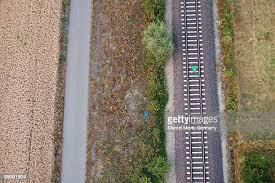Dust_screen: (189, 63, 199, 75)
